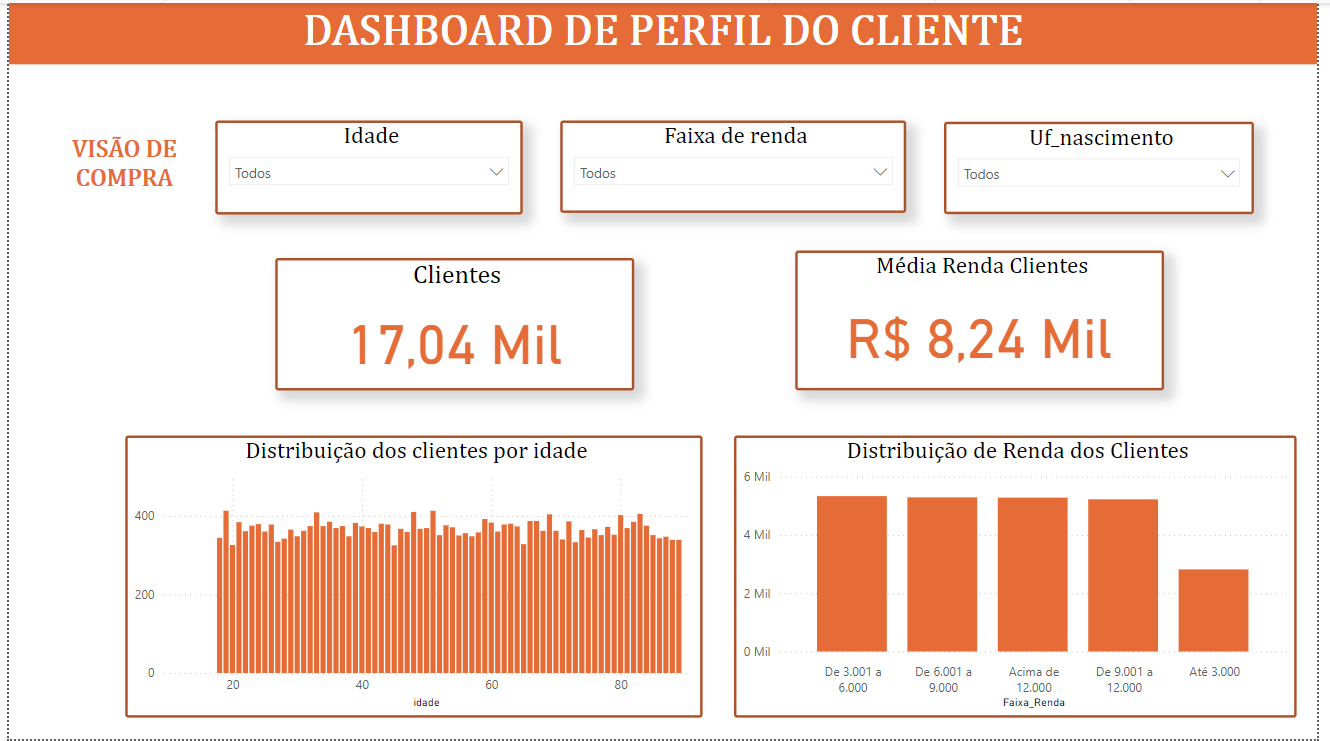

The page's visual inventory and layout, read from the dashboard file:
{"tool":"powerbi","page":{"name":"dashclientes","canvas":[1280,720],"ordinal":2},"visuals":[{"type":"card","title":"Clientes","fields":{"Values":["Count(Base cliente.cliente_Log)"]},"box":[260.5,249.5,351,129.6],"z":0},{"type":"card","title":"Média Renda Clientes","fields":{"Values":["Avg(Base cliente.renda)"]},"box":[769.2,242.1,360.7,137],"z":1000},{"type":"columnChart","title":"Distribuição dos clientes por idade","fields":{"Category":["Base cliente.idade"],"Y":["CountNonNull(Base cliente.cliente_Log)"]},"box":[113.7,423.1,564.9,276.4],"z":2000},{"type":"clusteredColumnChart","title":"Distribuição de Renda dos Clientes","fields":{"Y":["Count(Base cliente.cliente_Log)"],"Category":["Base cliente.Faixa_Renda"]},"box":[709.2,423.1,550.3,276.4],"z":3000},{"type":"slicer","title":"Idade","fields":{"Values":["Base cliente.idade"]},"box":[201.8,114.9,300.8,91.7],"z":4000},{"type":"slicer","title":"Faixa de renda","fields":{"Values":["Base cliente.Faixa_Renda"]},"box":[539.3,114.9,338.7,90.5],"z":5000},{"type":"slicer","title":"Uf_nascimento","fields":{"Values":["Base cliente.uf_nascimento"]},"box":[914.7,116.2,303.3,90.5],"z":6000},{"type":"textbox","box":[0,0,1280,60],"z":7000},{"type":"textbox","box":[23.8,126.2,178.8,67.5],"z":8000}]}

Visuals, with their boxes in screenshot pixels (x1, y1, x2, y2), scaled from the page's 1280x720 canvas onto the 1330x741 screenshot:
"Clientes" card: x1=271 y1=257 x2=635 y2=390
"Média Renda Clientes" card: x1=799 y1=249 x2=1174 y2=390
"Distribuição dos clientes por idade" columnChart: x1=118 y1=435 x2=705 y2=720
"Distribuição de Renda dos Clientes" clusteredColumnChart: x1=737 y1=435 x2=1309 y2=720
"Idade" slicer: x1=210 y1=118 x2=522 y2=213
"Faixa de renda" slicer: x1=560 y1=118 x2=912 y2=211
"Uf_nascimento" slicer: x1=950 y1=120 x2=1266 y2=213
textbox: x1=0 y1=0 x2=1329 y2=62
textbox: x1=25 y1=130 x2=211 y2=199
